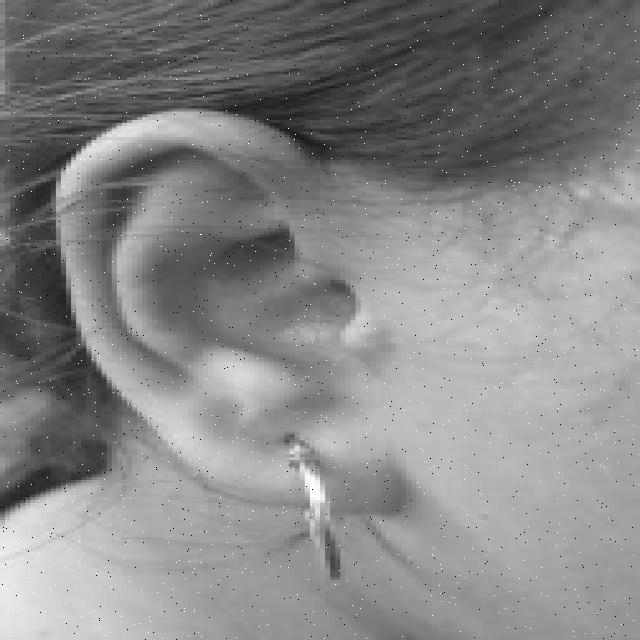ear: (51, 111, 396, 506)
